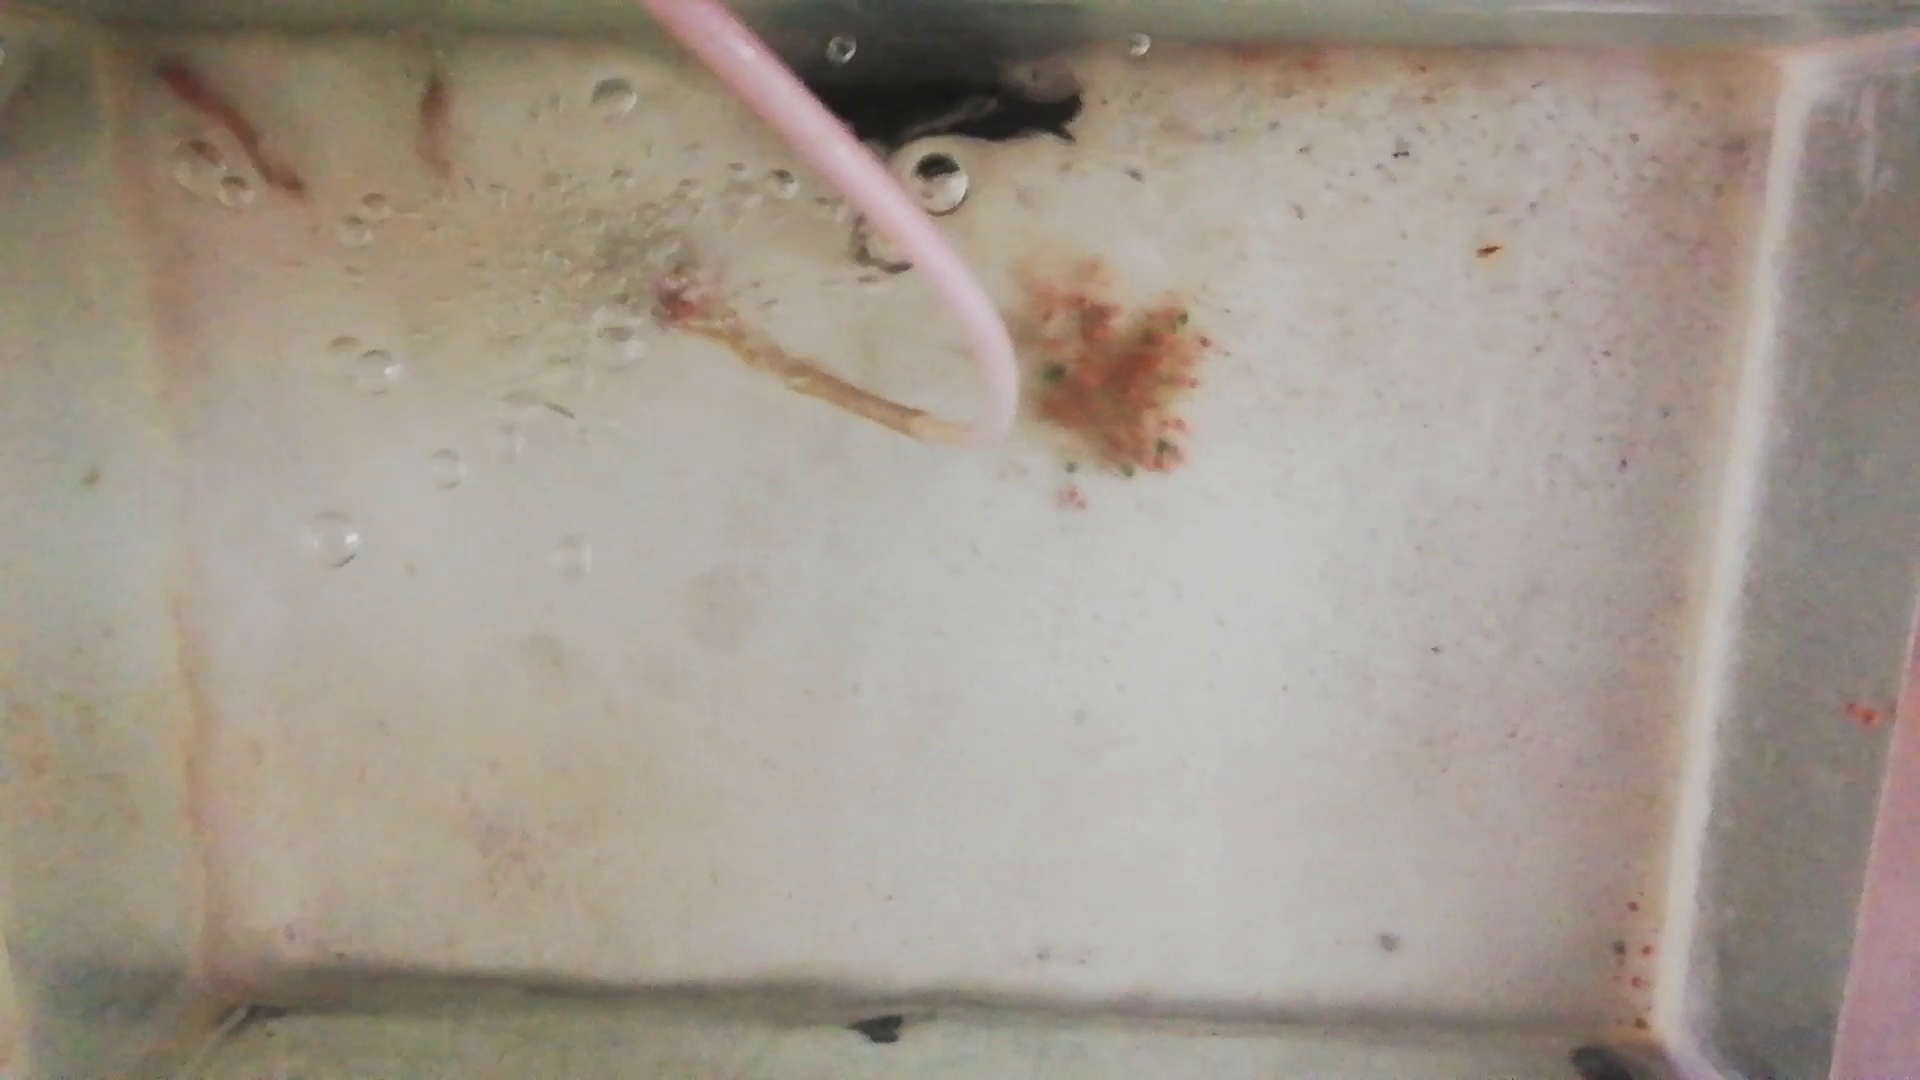fish: (148, 51, 298, 194), (415, 66, 460, 194)
